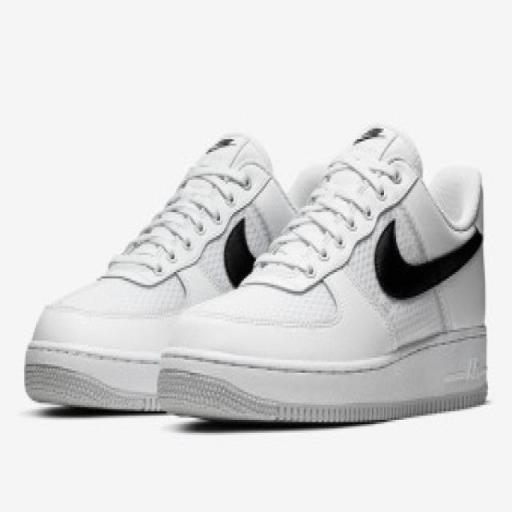Nike: (372, 218, 485, 309)
